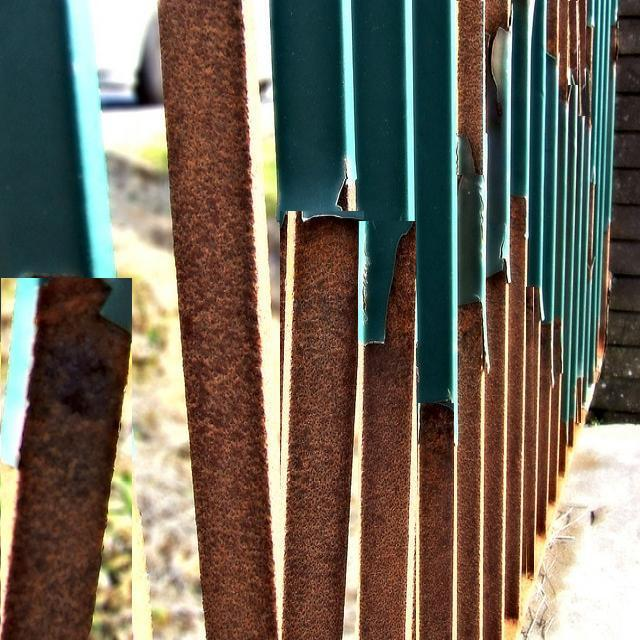corrosion: (27, 0, 597, 640)
